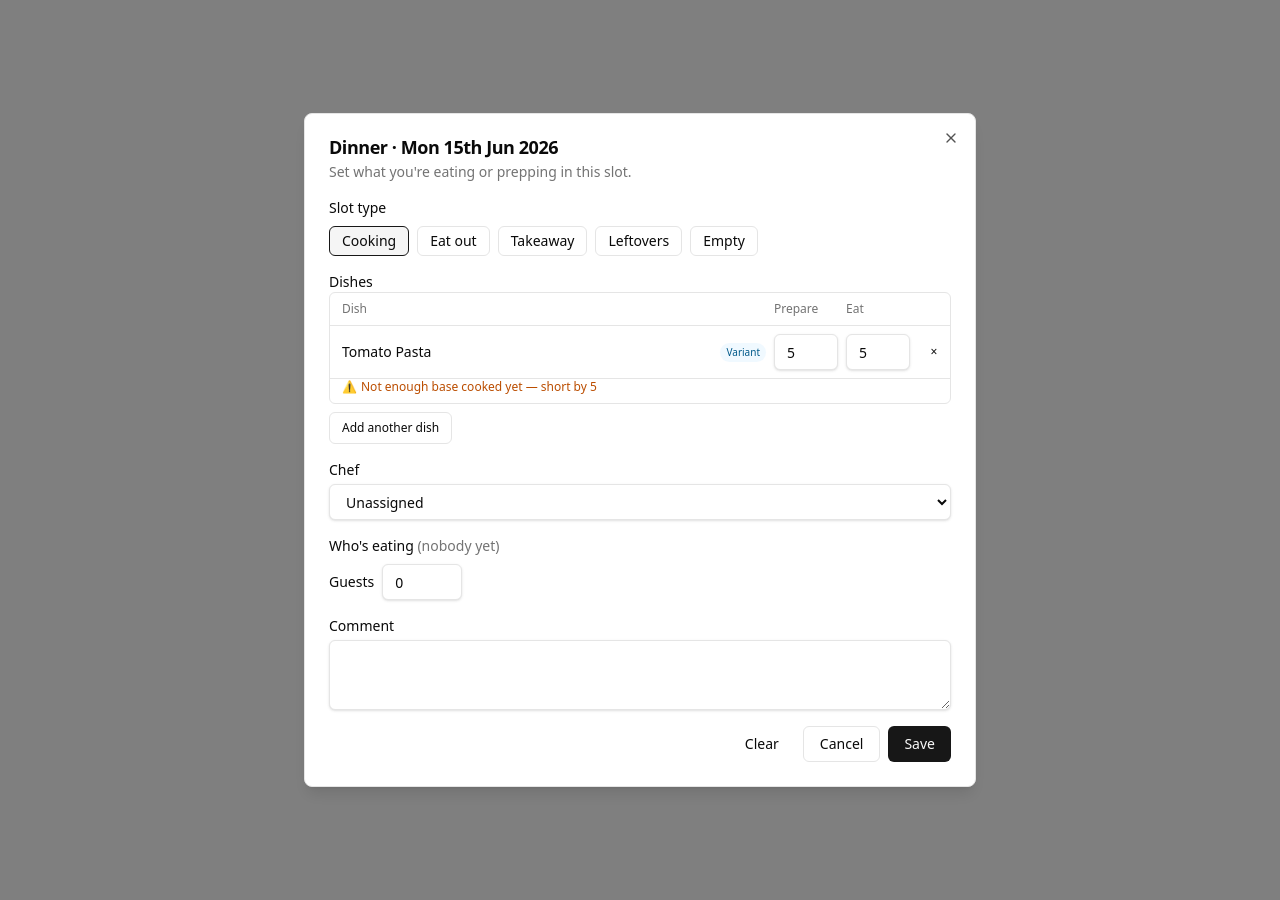
Test: SlotEditorSheet — meal items › clears the shortfall warning when the base is added to the dishes
Check: the message with test id "serving-variation-warning" shows "short by 5", box top-left (361, 378), bottom-right (597, 395)
// Listing the base in the day's dishes cooks 8 servings, covering the 5.
Click the button "Add another dish": (391, 428) top-left (329, 412), bottom-right (452, 444)
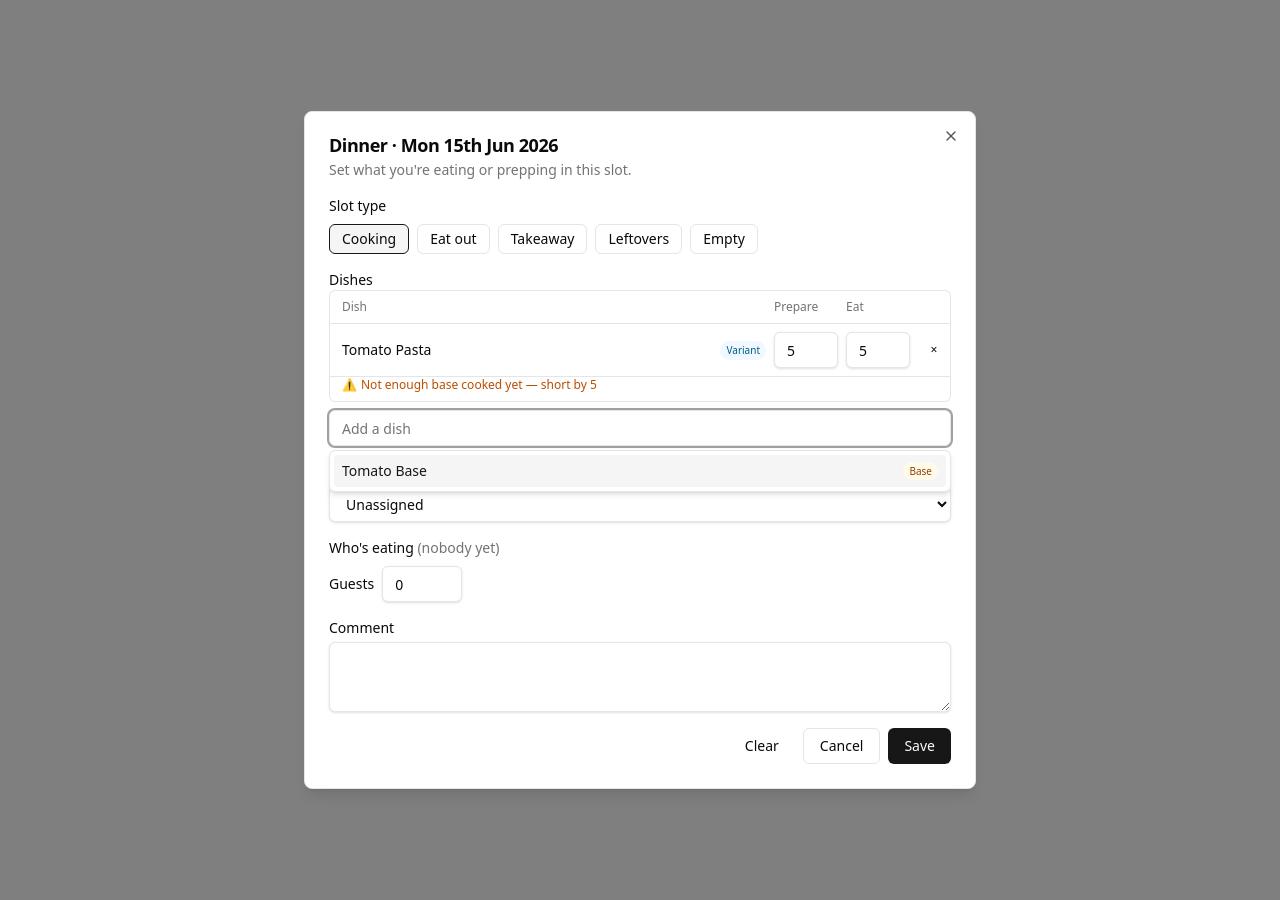
In the dropdown labelled "Add a dish": (640, 428) top-left (329, 410), bottom-right (951, 446), type "Tomato"
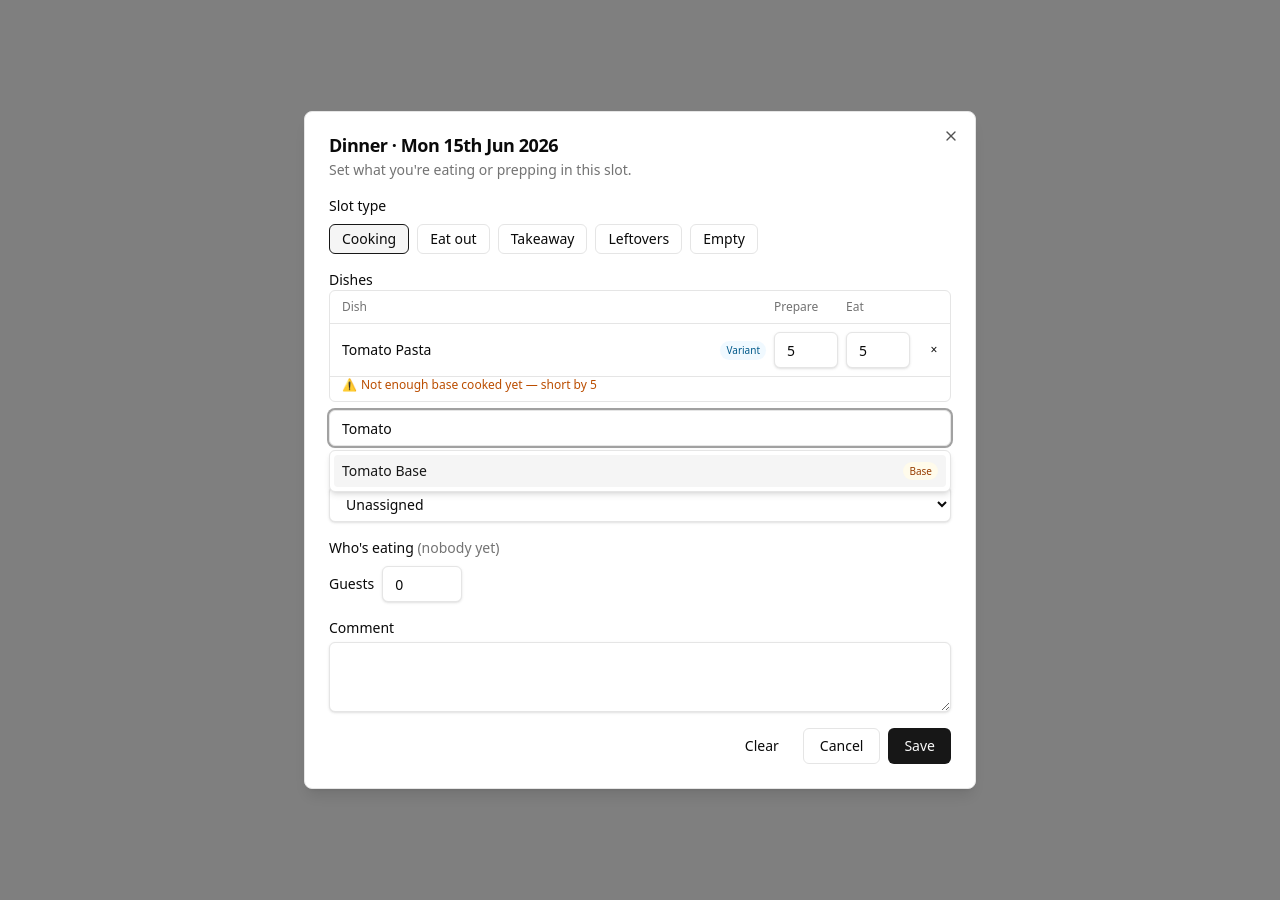
Click the text "Tomato Base": (384, 471) top-left (342, 461), bottom-right (427, 481)
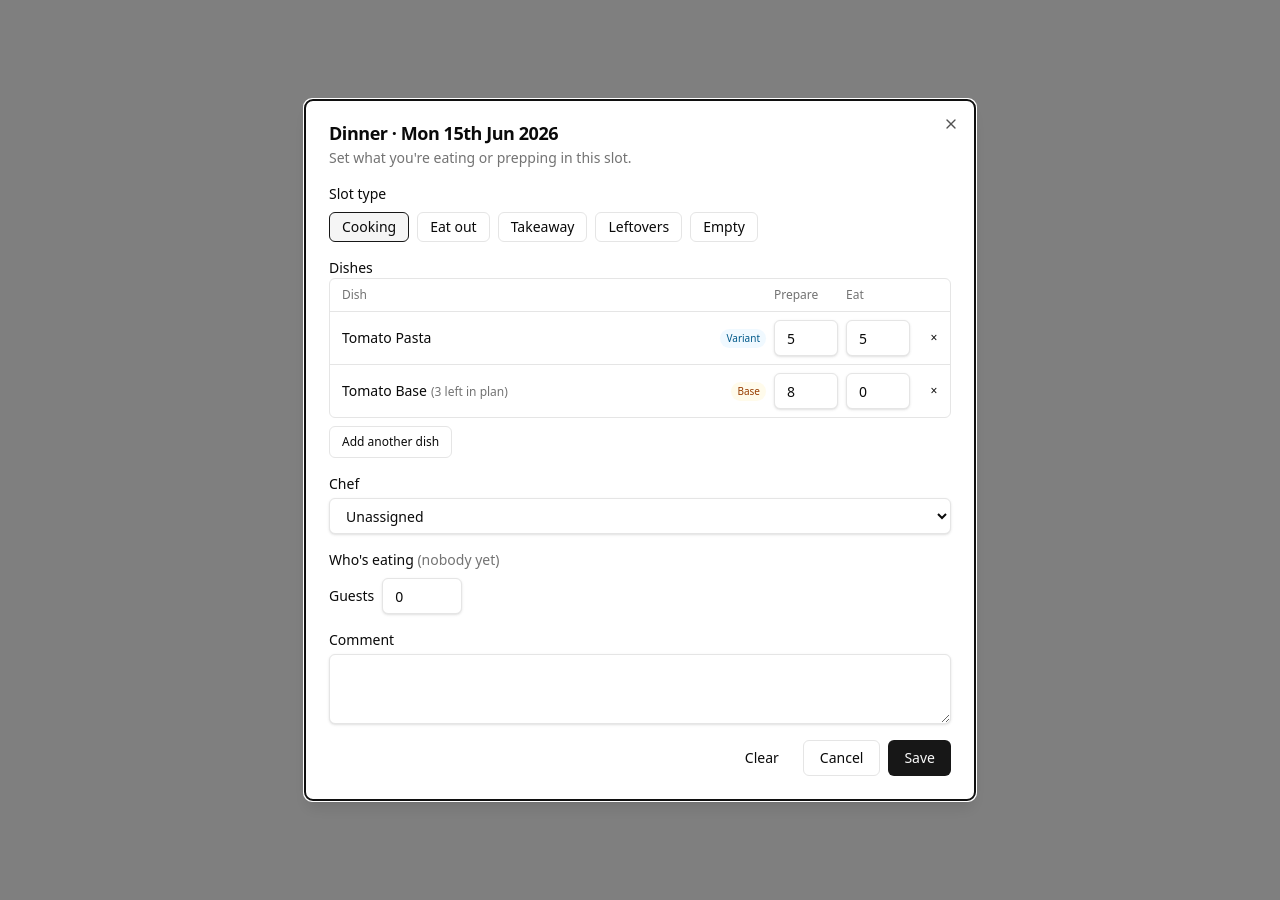
Check: the message with test id "serving-variation-warning" is gone
